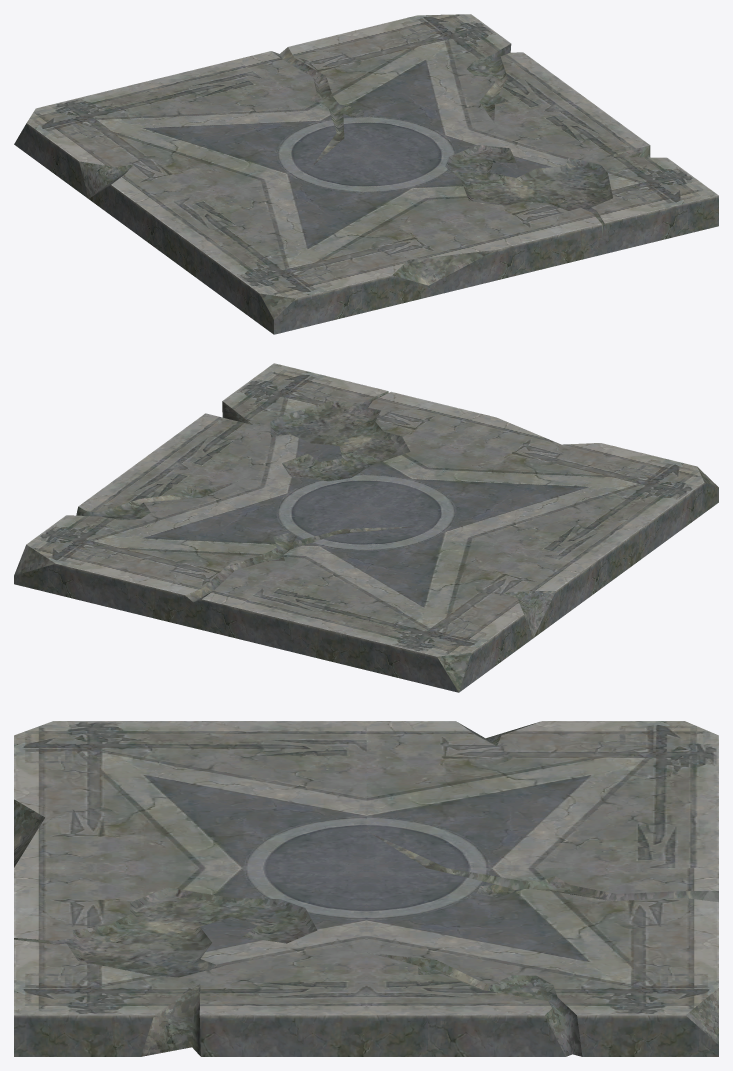
Rendered from all_arch_sith_ruins_slab.glb.
3 renders of one model, top to bottom at view 1: azimuth 30°, elevation 25°; view 2: azimuth 150°, elevation 25°; view 3: azimuth 270°, elevation 25°, orthographic. The views are drawn at different scales.
Parts seen in each view (by area): view 1: all_arch_sith_ruins_slab; view 2: all_arch_sith_ruins_slab; view 3: all_arch_sith_ruins_slab.
Boxes of the visible parts, x1,y1,x2,y2 form: all_arch_sith_ruins_slab: [14, 14, 718, 334]; all_arch_sith_ruins_slab: [14, 363, 718, 692]; all_arch_sith_ruins_slab: [14, 721, 718, 1056].
Size of the model in its own units: 0.7215 by 0.0476 by 0.7303.
3 materials, 3 textured.
